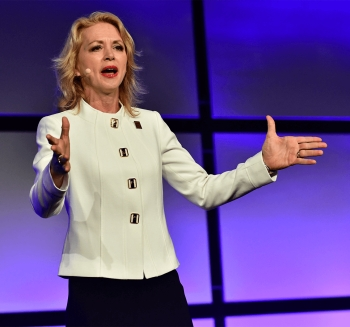hand: (261, 113, 327, 169), (44, 116, 72, 175)
